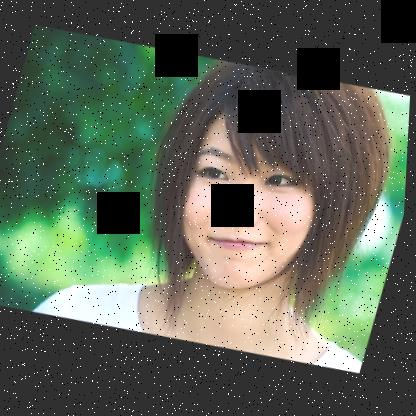Female: (165, 102, 340, 306)
